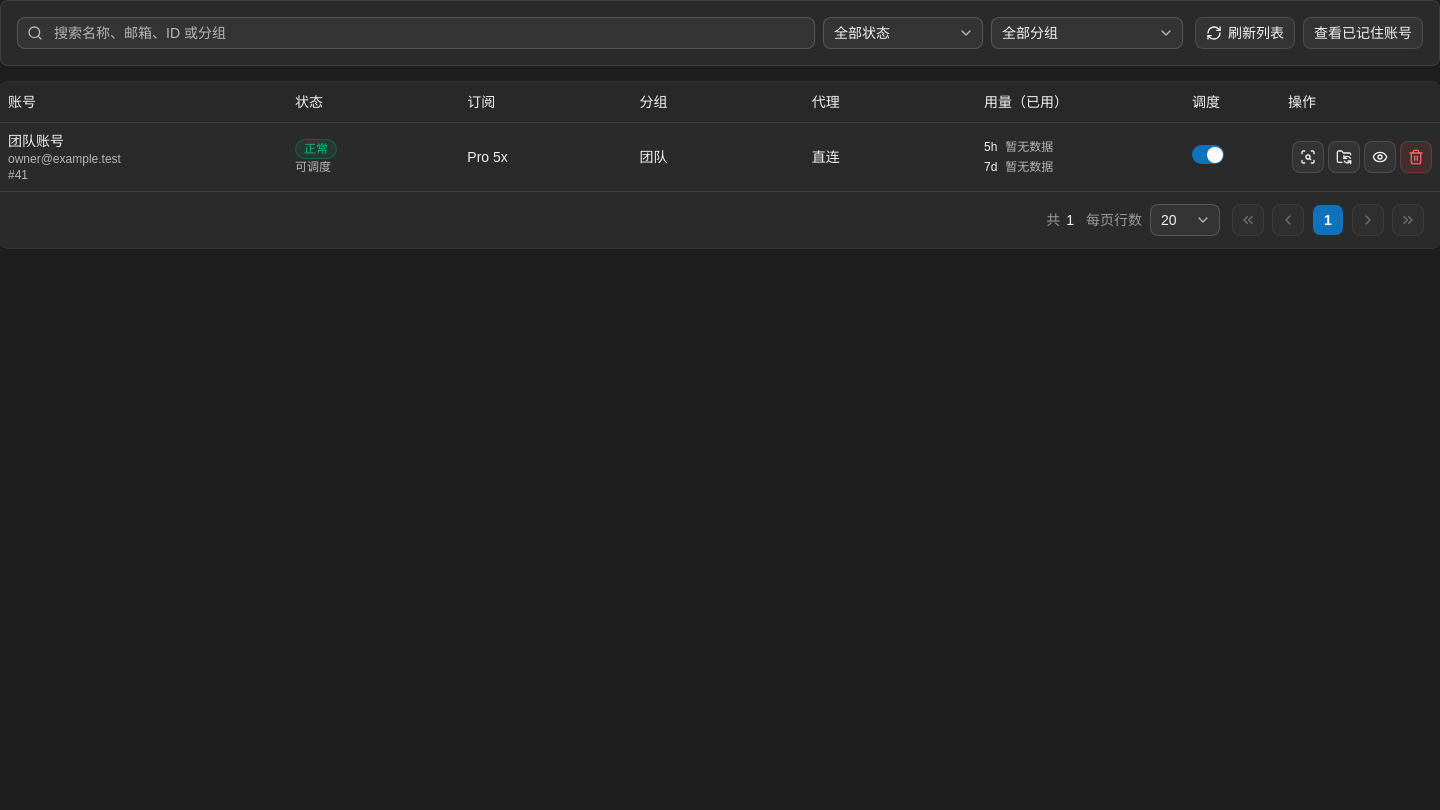
Test: 影响范围读取失败时保留取消和重试入口且禁止删除
Click the button named "删除 团队账号" at (1416, 156), box x1=1400 y1=140 x2=1432 y2=172
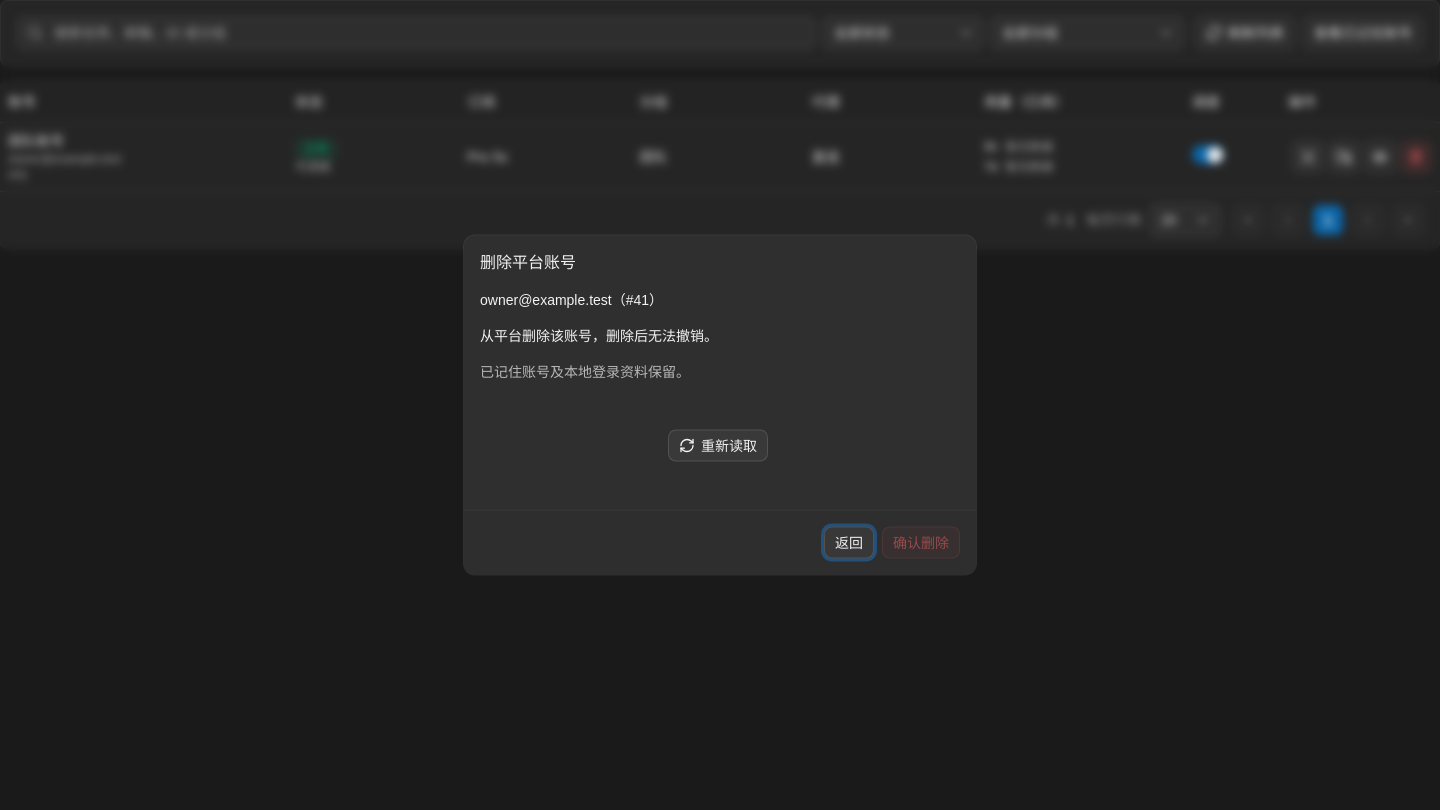
expect the button "重新读取" is enabled: met, box x1=668 y1=430 x2=768 y2=462
expect the button "确认删除" is disabled: met, box x1=882 y1=526 x2=960 y2=558
expect the button "返回" is enabled: met, box x1=824 y1=526 x2=874 y2=558
